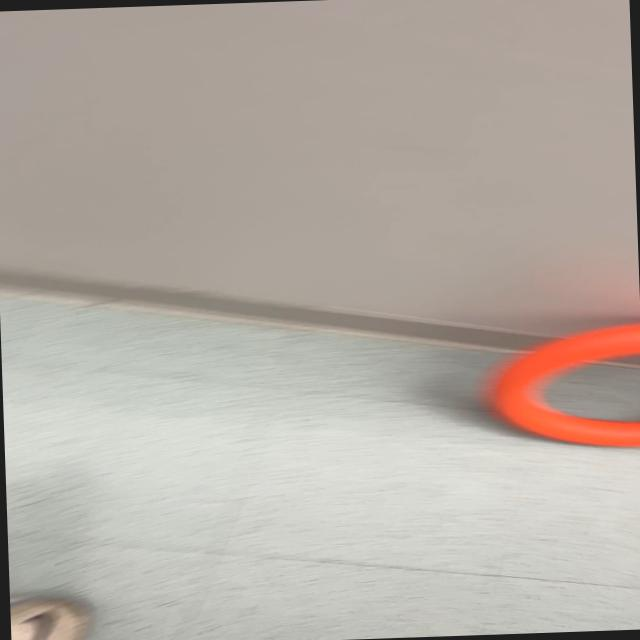note: (475, 320, 640, 453)
